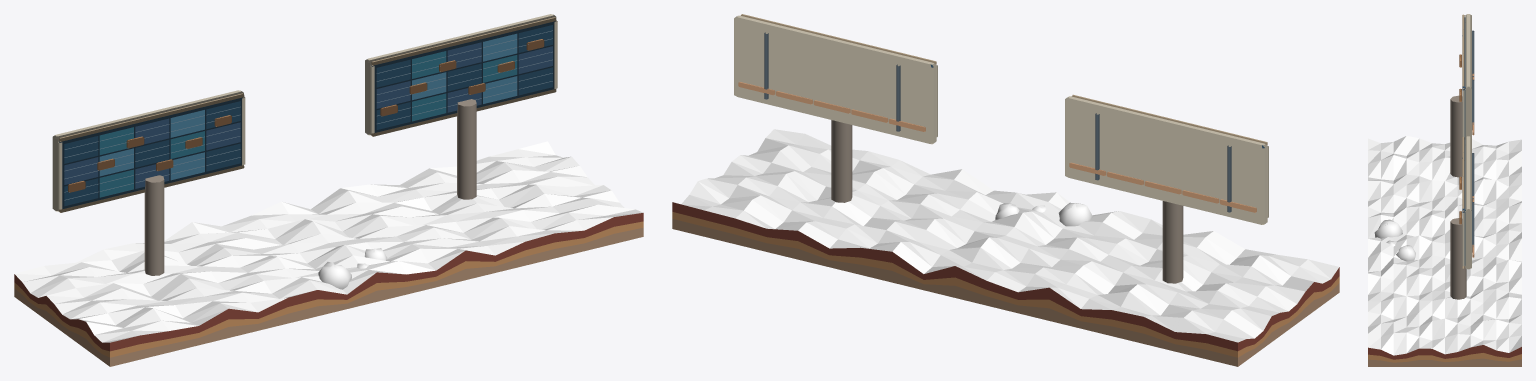
Rendered from insight-polvo.obj.
3 views of the same model, side by side, from view 1: azimuth 30°, elevation 25°; view 2: azimuth 150°, elevation 25°; view 3: azimuth 270°, elevation 25° (orthographic). The views are drawn at different scales.
Visible parts, largest first — view 1: insight-polvo; view 2: insight-polvo; view 3: insight-polvo.
Part boxes in pixels (left/top/right/bottom): insight-polvo: left=14, top=14, right=643, bottom=366; insight-polvo: left=672, top=14, right=1339, bottom=366; insight-polvo: left=1368, top=14, right=1521, bottom=366.
Bounding box in the file's own units: 1.64 × 0.5385 × 0.51.
